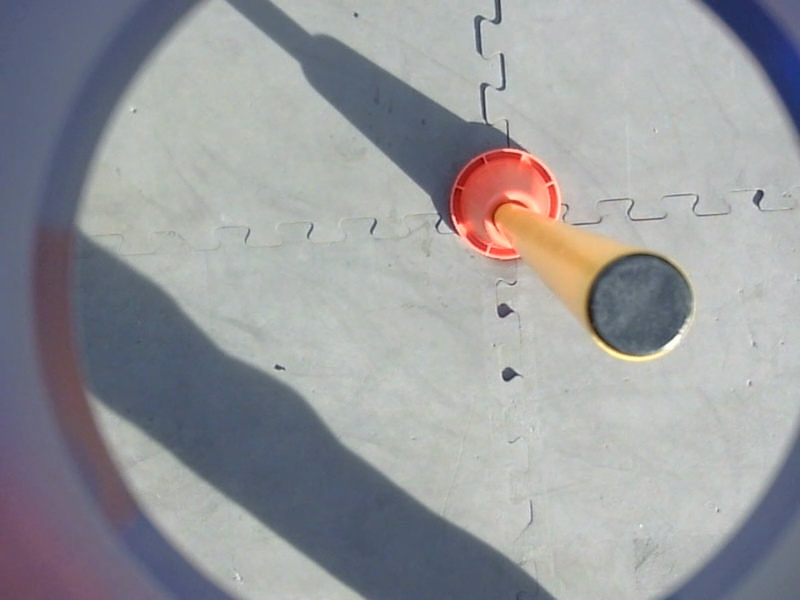tip: (579, 245, 702, 366)
